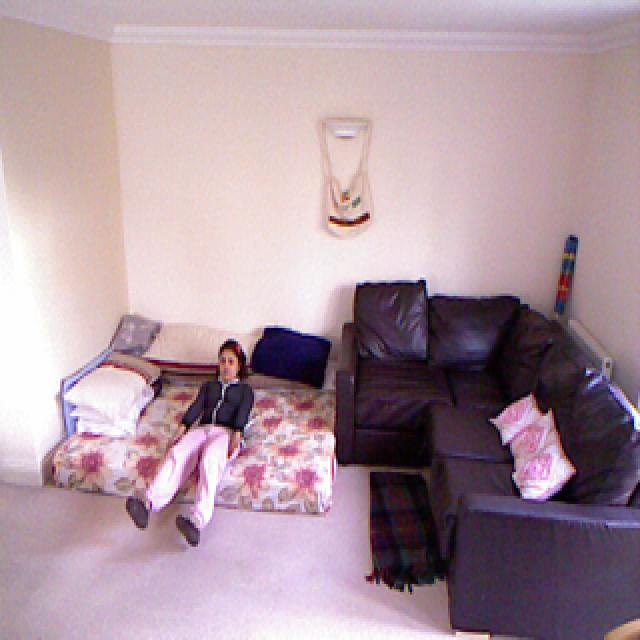lying: (125, 338, 256, 546)
